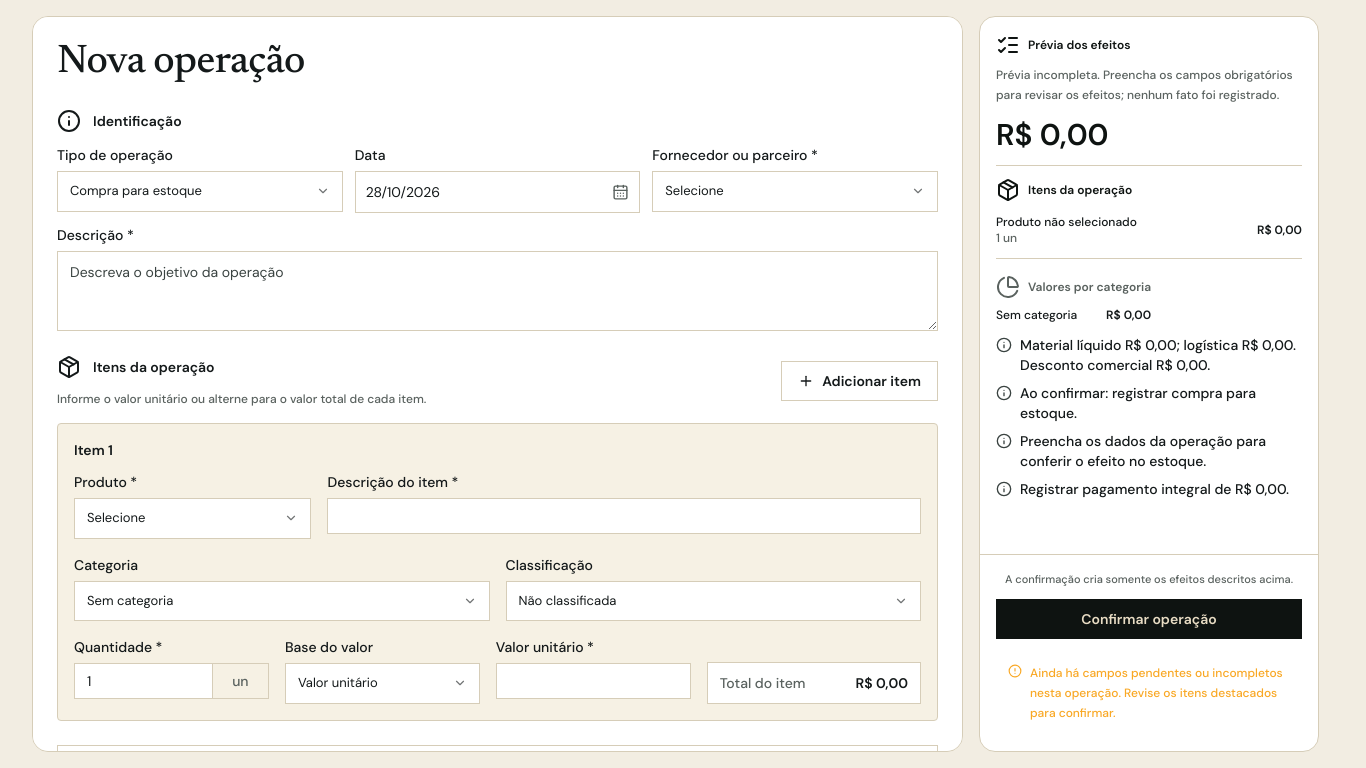
Scenario: FormOperacao › oferece ajuste de estoque como tipo de operação
Click the dropdown named "Tipo de operação" at [200, 191], box [57, 171, 343, 212]
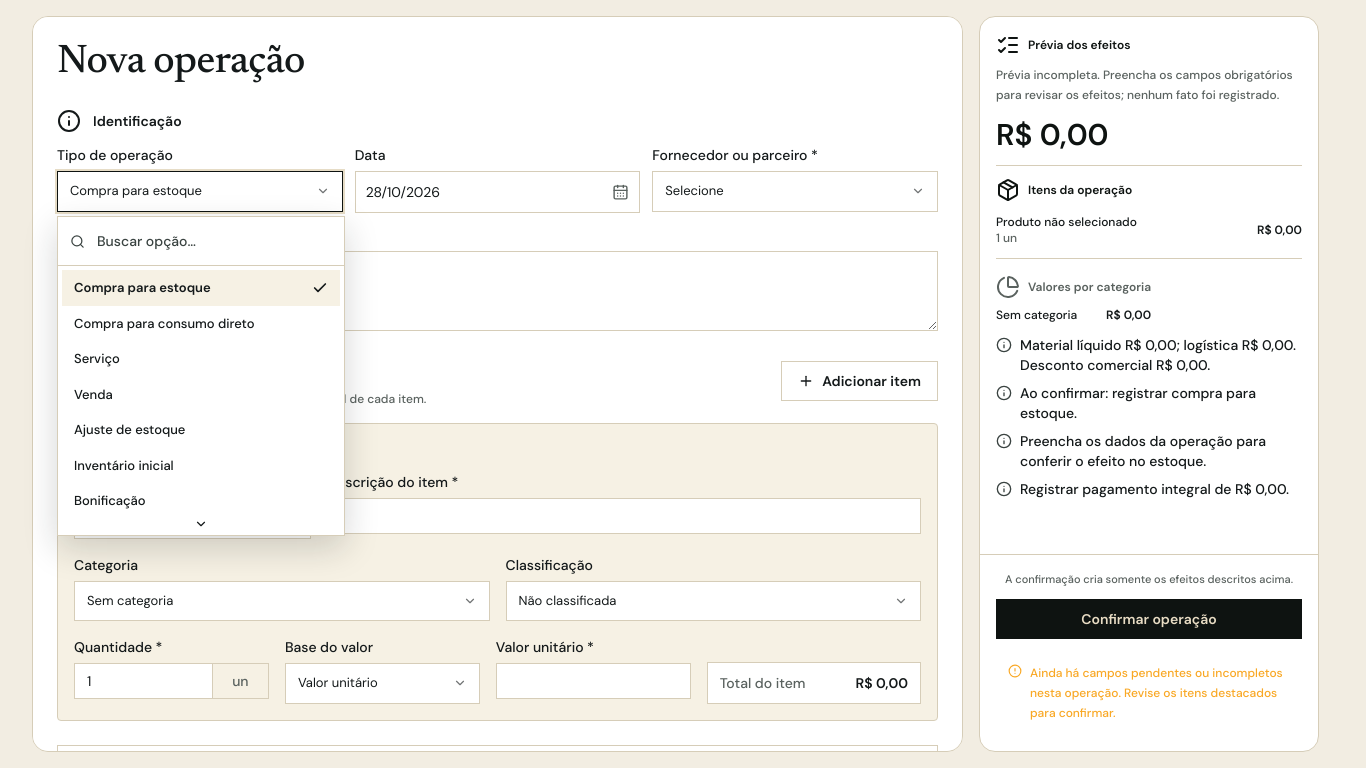
Result: the option "Ajuste de estoque" is shown at [74, 421, 185, 438]
Result: the option "Compra para estoque" is shown at [62, 270, 340, 306]
